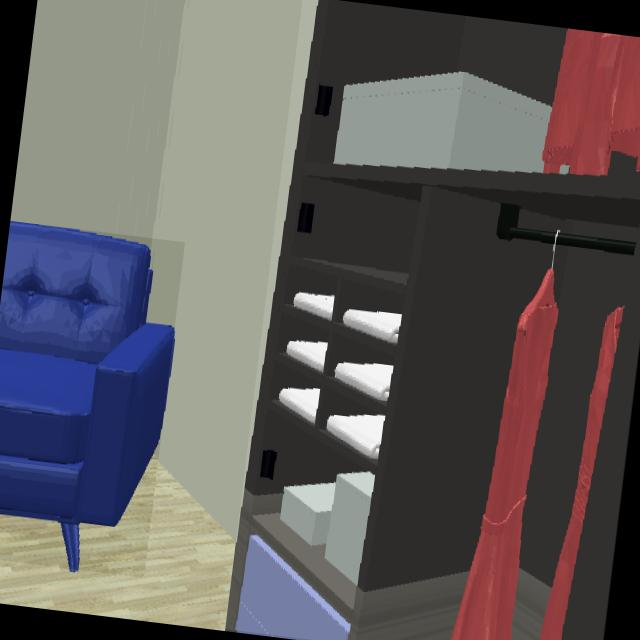sofa: (0, 221, 174, 568)
wardrobe: (225, 0, 640, 640)
